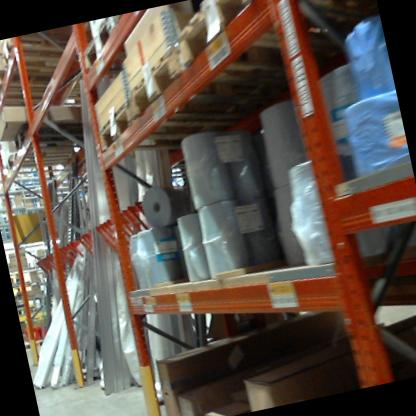pallet: (117, 7, 357, 132), (168, 0, 383, 102), (87, 78, 245, 172), (0, 14, 130, 87), (0, 44, 103, 118), (0, 118, 99, 187), (76, 10, 168, 80), (0, 75, 71, 127), (24, 329, 52, 354), (18, 305, 26, 321)
